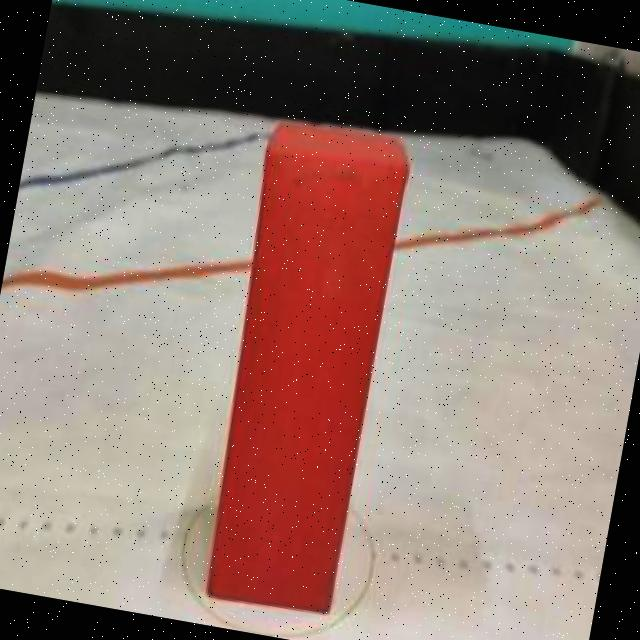redbox: (186, 112, 418, 619)
